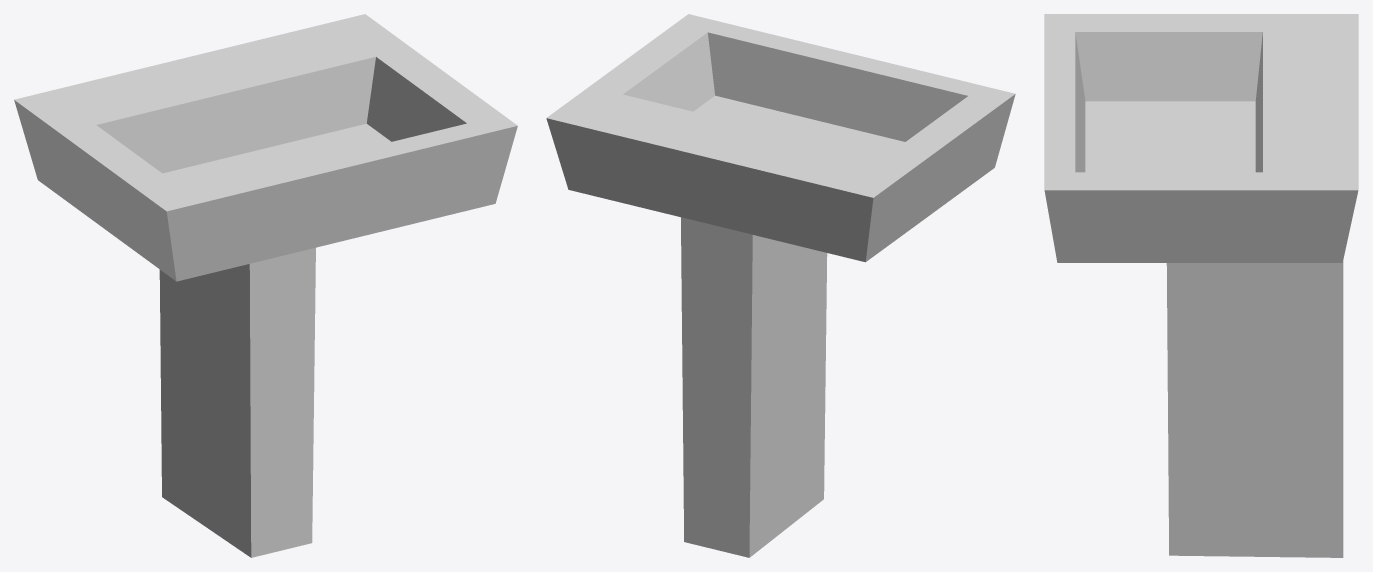
Rendered from Itr_Washstand_Body_01.FBX.
The picture shows the model from 3 angles, left to right: view 1: azimuth 30°, elevation 25°; view 2: azimuth 150°, elevation 25°; view 3: azimuth 270°, elevation 25°; orthographic projection. The views are drawn at different scales.
Visible parts, largest first — view 1: Itr_Basin_Body_01; view 2: Itr_Basin_Body_01; view 3: Itr_Basin_Body_01.
Boxes of the visible parts, x1,y1,x2,y2 form: Itr_Basin_Body_01: (14, 14, 517, 557); Itr_Basin_Body_01: (546, 14, 1015, 557); Itr_Basin_Body_01: (1044, 14, 1358, 557).
Bounding box in the file's own units: 39.37 × 45.66 × 29.65.
